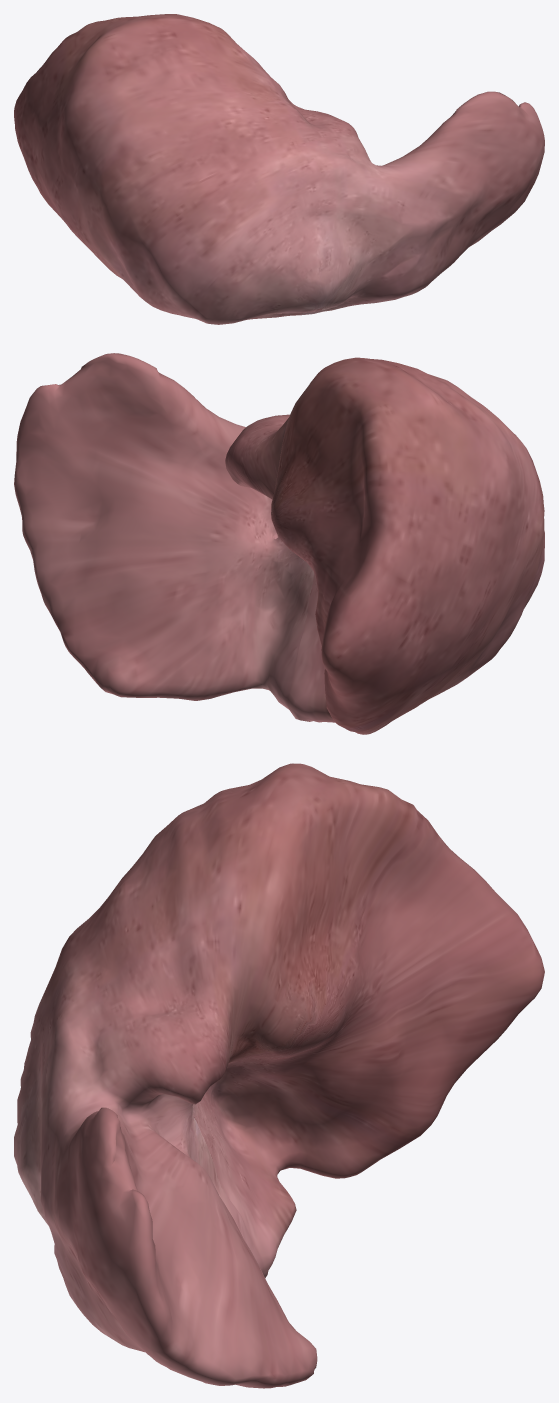
File: liver1.glb
3 views of the same model, one above another, from view 1: azimuth 30°, elevation 25°; view 2: azimuth 150°, elevation 25°; view 3: azimuth 270°, elevation 25° (orthographic). The views are drawn at different scales.
Parts seen in each view (by area): view 1: liver_asc.ply; view 2: liver_asc.ply; view 3: liver_asc.ply.
Part boxes in pixels (x1,y1,x2,y2): liver_asc.ply: (14,14,544,324); liver_asc.ply: (14,353,544,734); liver_asc.ply: (14,763,544,1388).
Bounding box in the file's own units: 220 × 148 × 158.
Materials: 1 (1 with a texture image).
